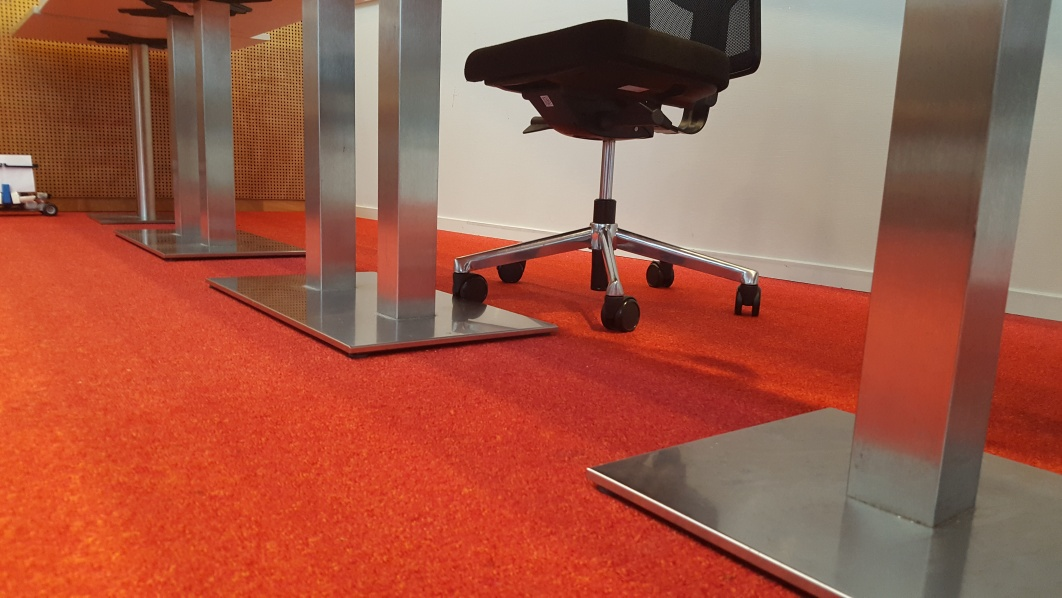car: (1, 143, 60, 219)
